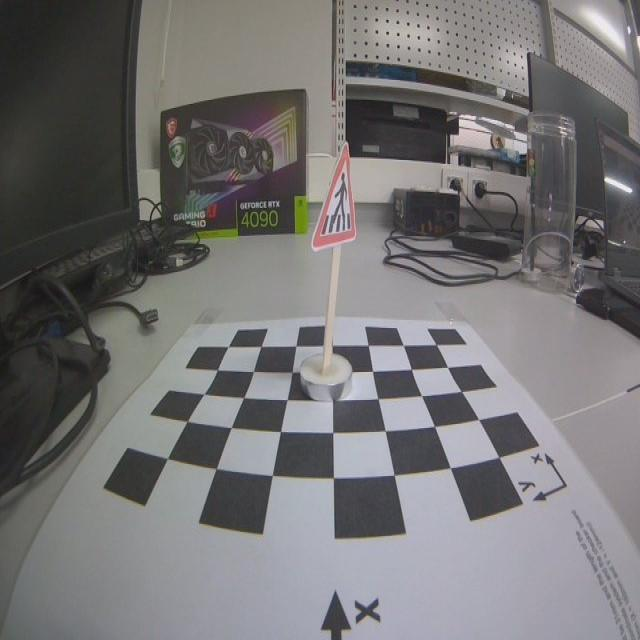Rambu Penyebrangan: (311, 146, 357, 250)
